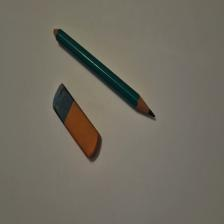eraser: (54, 84, 102, 159)
pencil: (55, 29, 157, 118)
